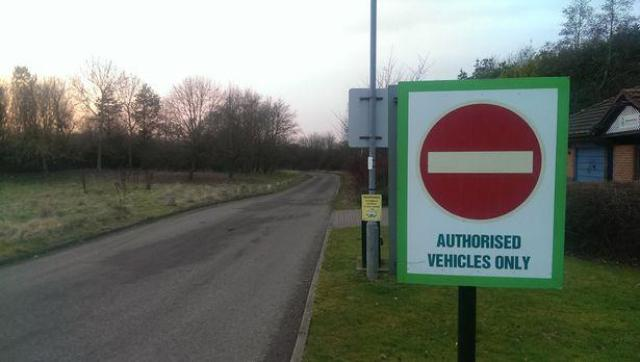B2: (420, 102, 544, 220)
